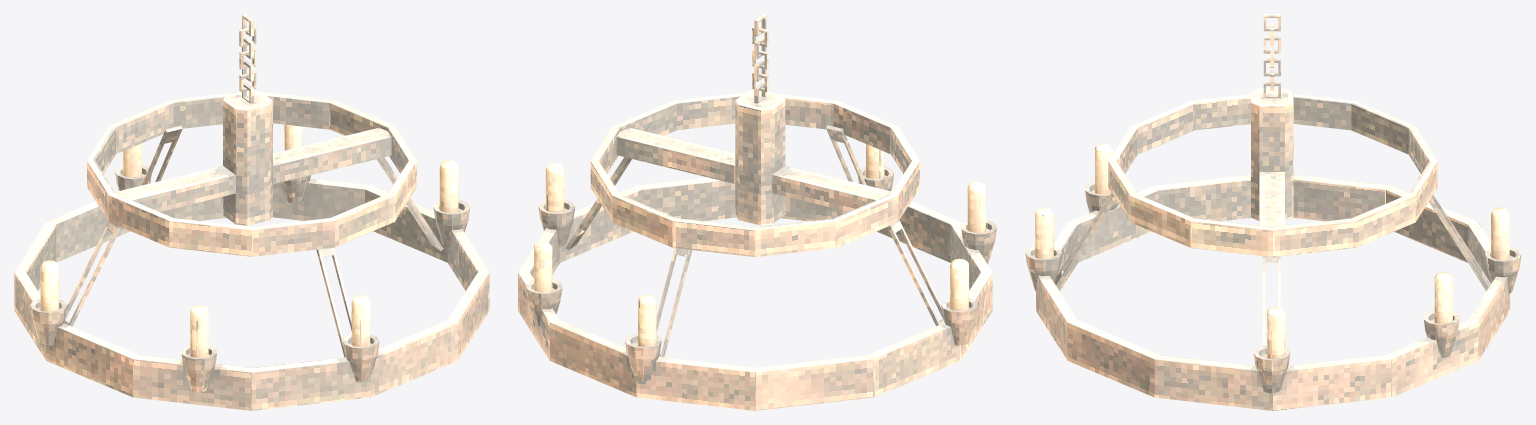
File: chandelier.glb
3 renders of one model, left to right at view 1: azimuth 30°, elevation 25°; view 2: azimuth 150°, elevation 25°; view 3: azimuth 270°, elevation 25°, orthographic.
Parts seen in each view (by area): view 1: Chandelier_1; view 2: Chandelier_1; view 3: Chandelier_1.
Boxes of the visible parts, bbox=[...] form: Chandelier_1: bbox=[14, 14, 489, 410]; Chandelier_1: bbox=[518, 14, 996, 410]; Chandelier_1: bbox=[1025, 14, 1521, 410].
Bounding box in the file's own units: 7.86 × 5.08 × 7.78.
